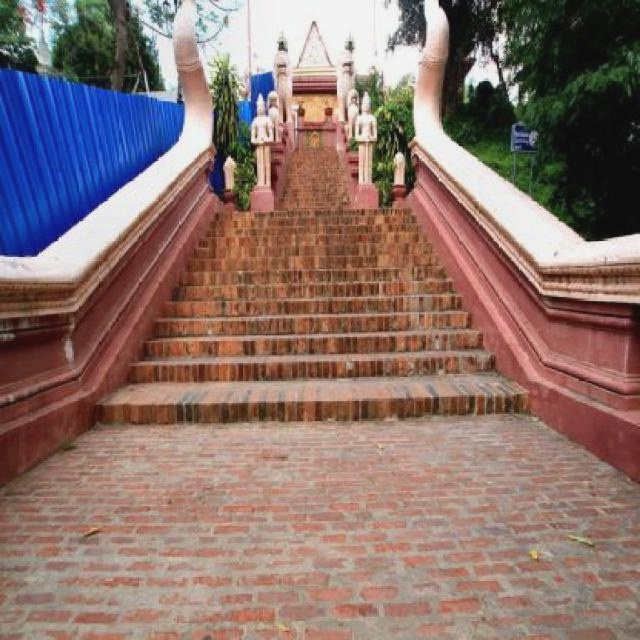stair: (94, 143, 532, 428)
